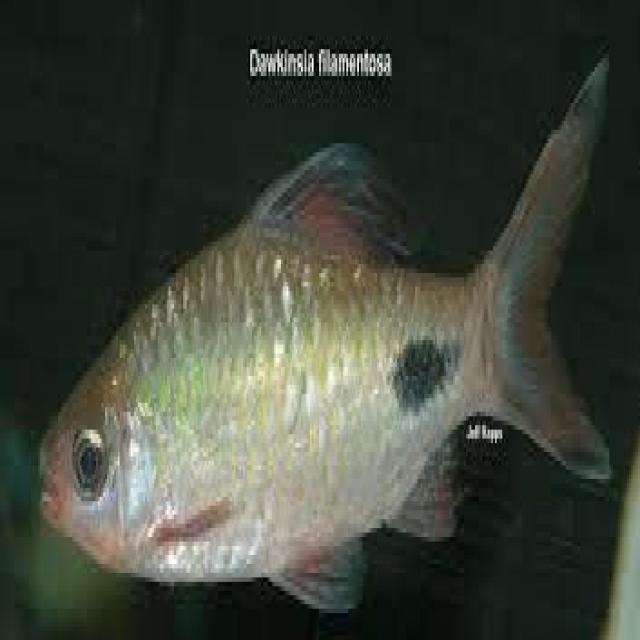Black-Spotted-Barb: (23, 93, 632, 617)
